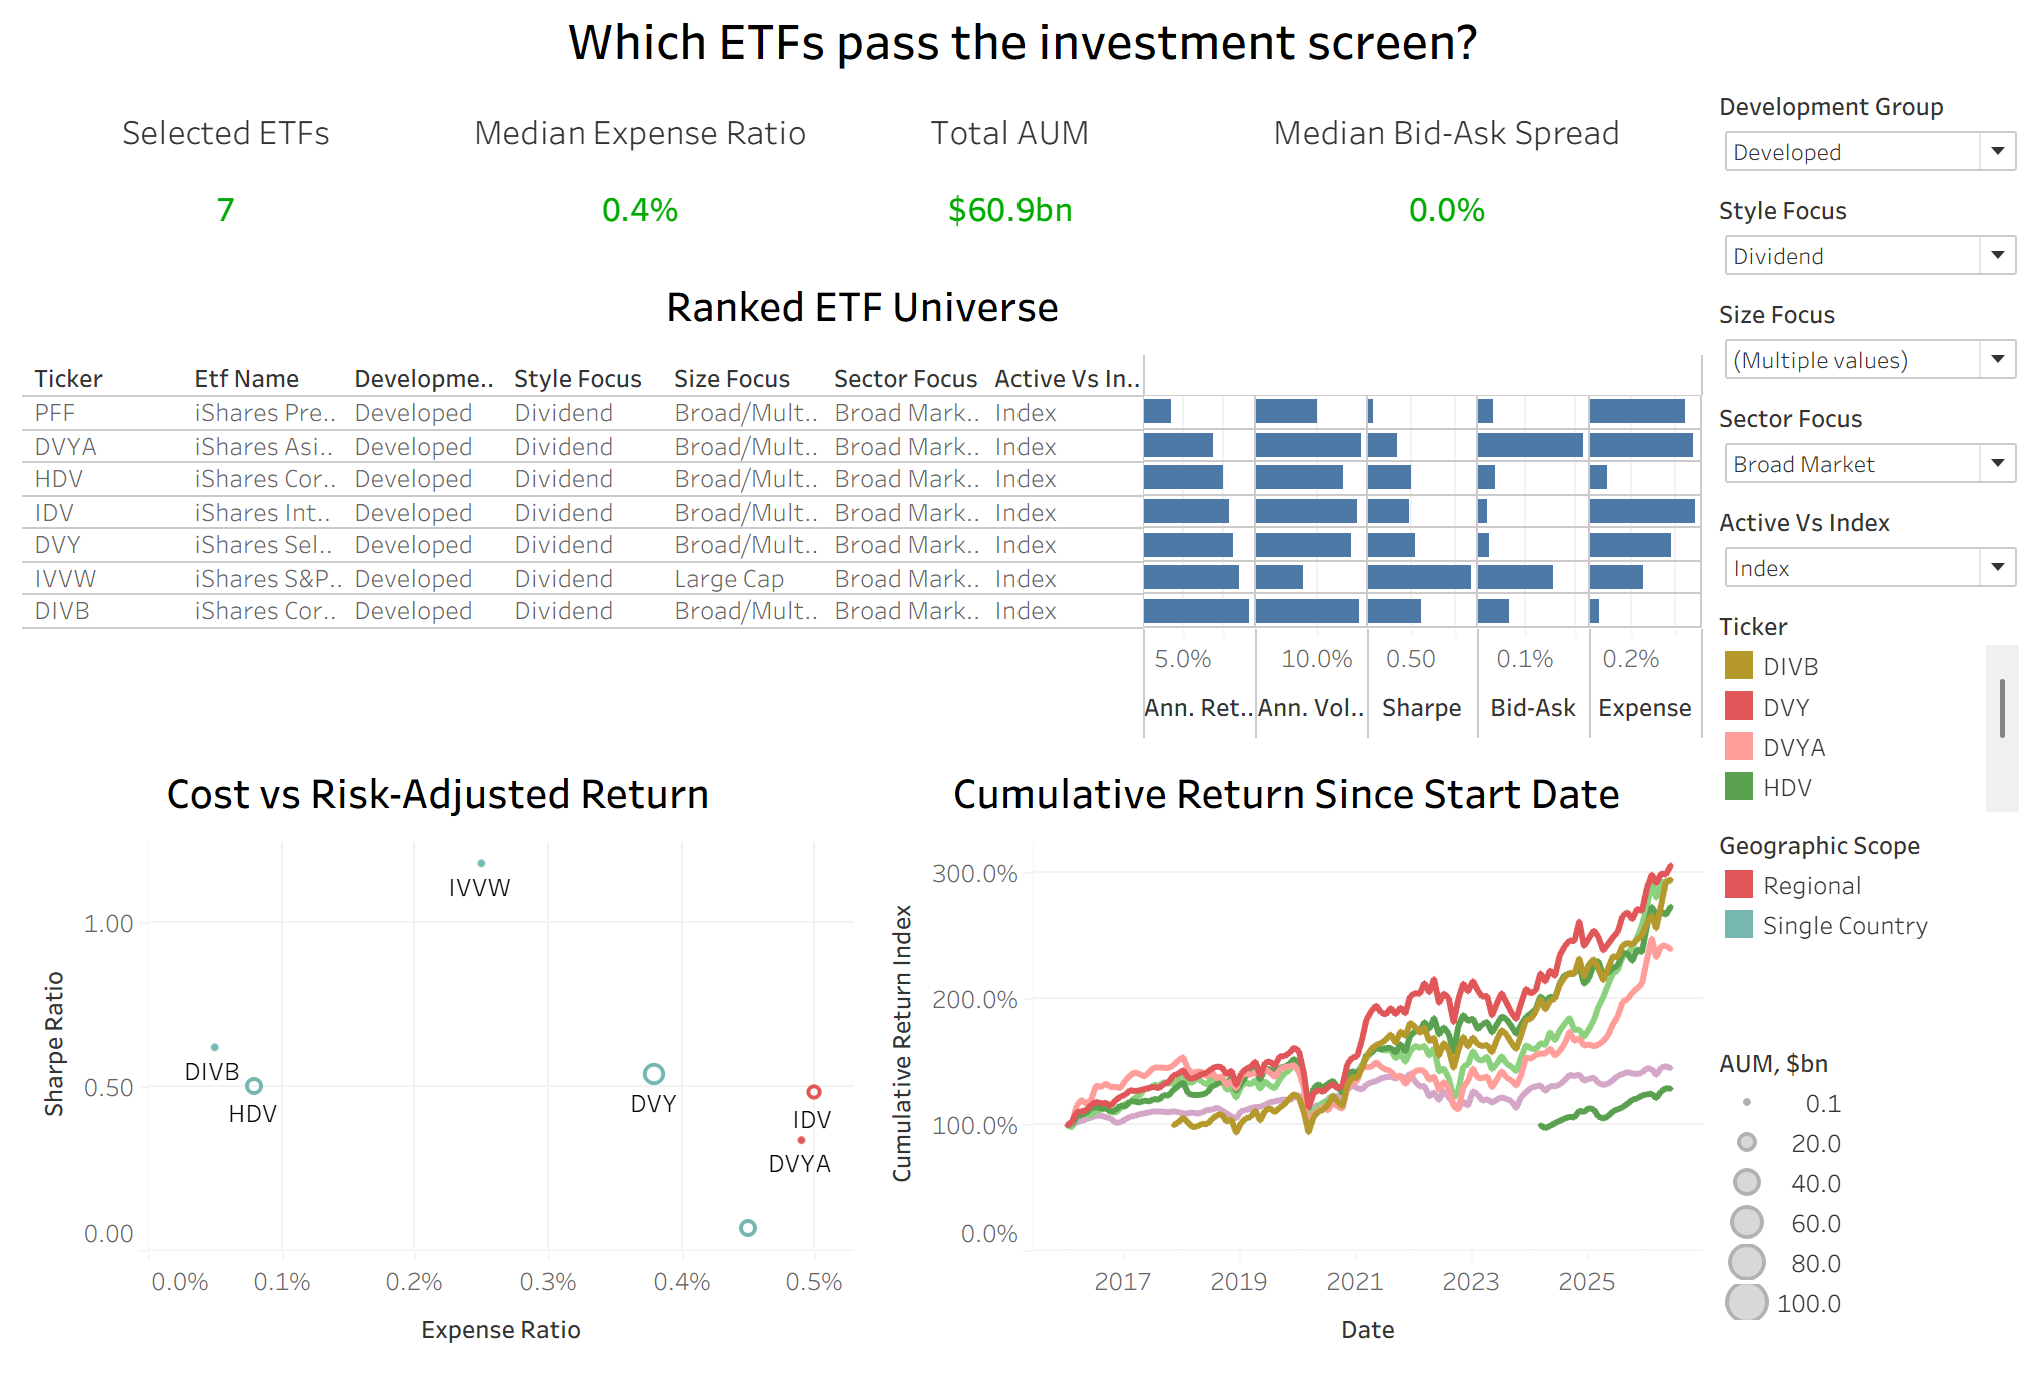

This screenshot's page, from the dashboard's own definition file:
{"tool":"tableau","page":{"name":"Dashboard 1","canvas":[1024,700],"ordinal":0},"visuals":[{"type":"title","box":[8,8,1008,41]},{"type":"worksheet","title":"1.1 KPI: Selected ETFs","mark":"Text","box":[8,49,212,90.2]},{"type":"worksheet","title":"1.2 KPI: Median Expense Ratio","mark":"Automatic","box":[220,49,200.7,90.2]},{"type":"worksheet","title":"1.3 KPI: Total AUM","mark":"Automatic","box":[420.6,49,170.3,90.2]},{"type":"worksheet","title":"1.4 KPI: Median Bid-Ask Spread","mark":"Automatic","box":[591,49,265,90.2]},{"type":"filter","title":"1.5 ETF Ranking Table","param":"[federated.1naosg50h8d67913s3yj61krvr6c].[none:developed_or_emerging:nk]","box":[856,49,160,52]},{"type":"filter","title":"1.5 ETF Ranking Table","param":"[federated.1naosg50h8d67913s3yj61krvr6c].[none:style_focus:nk]","box":[856,101,160,52]},{"type":"worksheet","title":"1.5 ETF Ranking Table","mark":"Automatic","rows":["ticker","etf_name","developed_or_emerging","style_focus","size_focus","sector_focus","active_vs_index"],"cols":["Calculation_1912614151389188","Calculation_1912614151610373","Calculation_1912614152405002","Calculation_1912614150705153","Calculation_1912614150447104"],"box":[8,139.2,848,242.8]},{"type":"filter","title":"1.5 ETF Ranking Table","param":"[federated.1naosg50h8d67913s3yj61krvr6c].[none:size_focus:nk]","box":[856,153,160,52]},{"type":"filter","title":"1.5 ETF Ranking Table","param":"[federated.1naosg50h8d67913s3yj61krvr6c].[none:sector_focus:nk]","box":[856,205,160,52]},{"type":"filter","title":"1.5 ETF Ranking Table","param":"[federated.1naosg50h8d67913s3yj61krvr6c].[none:active_vs_index:nk]","box":[856,257,160,52]},{"type":"legend","title":"1.8 Cumulative Performance","param":"[federated.1naosg50h8d67913s3yj61krvr6c].[none:ticker:nk]","box":[856,309,160,109]},{"type":"worksheet","title":"1.6 Cost vs Performance Scatter","mark":"Automatic","rows":["Calculation_1912614152405002"],"cols":["Calculation_1912614150447104"],"box":[8,382,424,310]},{"type":"worksheet","title":"1.8 Cumulative Performance","mark":"Automatic","rows":["cumulative_return_index"],"cols":["month_end"],"box":[432,382,424,310]},{"type":"legend","title":"1.6 Cost vs Performance Scatter","param":"[federated.1naosg50h8d67913s3yj61krvr6c].[none:geographic_scope:nk]","box":[856,418,160,109]},{"type":"legend","title":"1.6 Cost vs Performance Scatter","param":"[federated.1naosg50h8d67913s3yj61krvr6c].[sum:Calculation_1912614150909954:qk]","box":[856,527,160,165]}]}

Visuals, with their boxes in screenshot pixels (x1, y1, x2, y2), scaled from the page's 1024x700 canvas onto the 2028x1380 screenshot:
title: <region>16, 16, 2012, 97</region>
"1.1 KPI: Selected ETFs" worksheet (Text marks): <region>16, 97, 436, 274</region>
"1.2 KPI: Median Expense Ratio" worksheet: <region>436, 97, 833, 274</region>
"1.3 KPI: Total AUM" worksheet: <region>833, 97, 1170, 274</region>
"1.4 KPI: Median Bid-Ask Spread" worksheet: <region>1170, 97, 1695, 274</region>
"1.5 ETF Ranking Table" filter: <region>1695, 97, 2012, 199</region>
"1.5 ETF Ranking Table" filter: <region>1695, 199, 2012, 302</region>
"1.5 ETF Ranking Table" worksheet: <region>16, 274, 1695, 753</region>
"1.5 ETF Ranking Table" filter: <region>1695, 302, 2012, 404</region>
"1.5 ETF Ranking Table" filter: <region>1695, 404, 2012, 507</region>
"1.5 ETF Ranking Table" filter: <region>1695, 507, 2012, 609</region>
"1.8 Cumulative Performance" legend: <region>1695, 609, 2012, 824</region>
"1.6 Cost vs Performance Scatter" worksheet: <region>16, 753, 856, 1364</region>
"1.8 Cumulative Performance" worksheet: <region>856, 753, 1695, 1364</region>
"1.6 Cost vs Performance Scatter" legend: <region>1695, 824, 2012, 1039</region>
"1.6 Cost vs Performance Scatter" legend: <region>1695, 1039, 2012, 1364</region>
